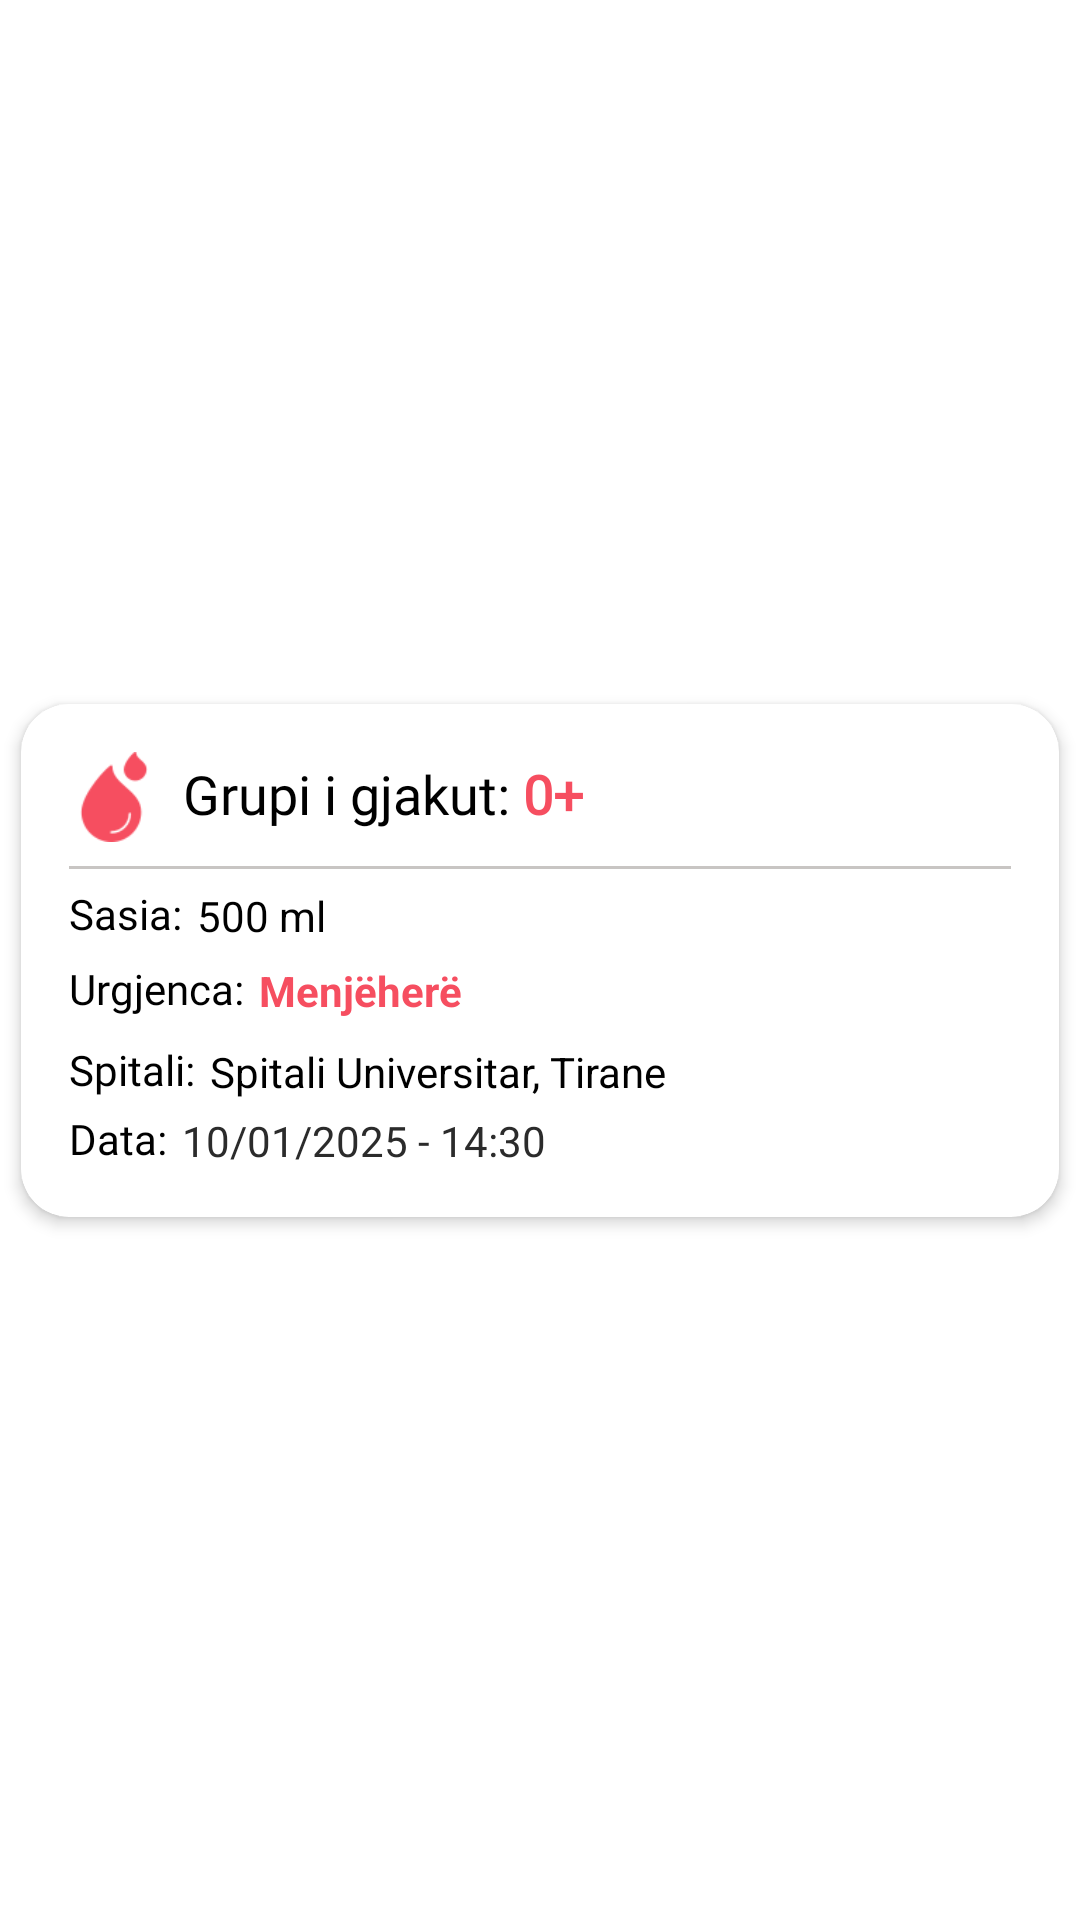

Point at icon controls on the screen. Image size 1080 × 1920, points as (x,y).
blood: (114,797)
